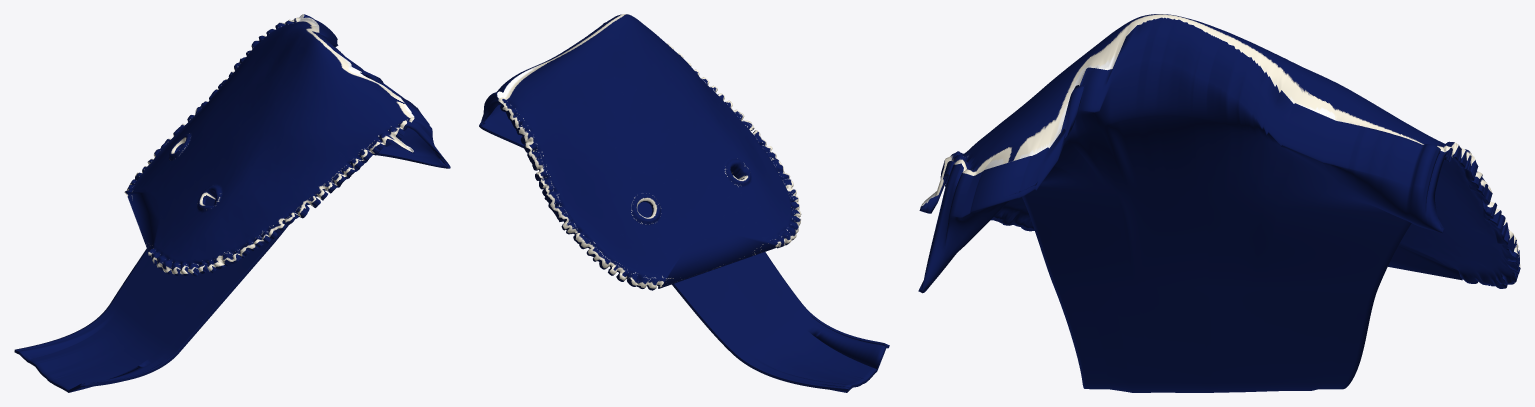
File: SOULGRAIN-V5.1-tongue-only.glb
The picture shows the model from 3 angles, left to right: view 1: azimuth 30°, elevation 25°; view 2: azimuth 150°, elevation 25°; view 3: azimuth 270°, elevation 25°; orthographic projection. The views are drawn at different scales.
Visible parts, largest first — view 1: TONGUE_ASSEMBLY_V5_1; view 2: TONGUE_ASSEMBLY_V5_1; view 3: TONGUE_ASSEMBLY_V5_1.
Part boxes in pixels (box(x1,y1,x2,y2)): TONGUE_ASSEMBLY_V5_1: box(14, 14, 450, 392); TONGUE_ASSEMBLY_V5_1: box(479, 14, 889, 392); TONGUE_ASSEMBLY_V5_1: box(918, 14, 1520, 392).
Size of the model in its own units: 0.8147 by 0.6734 by 0.6302.
Materials: 2 (1 with a texture image).
